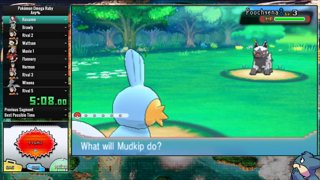mudkip: (71, 46, 170, 155)
